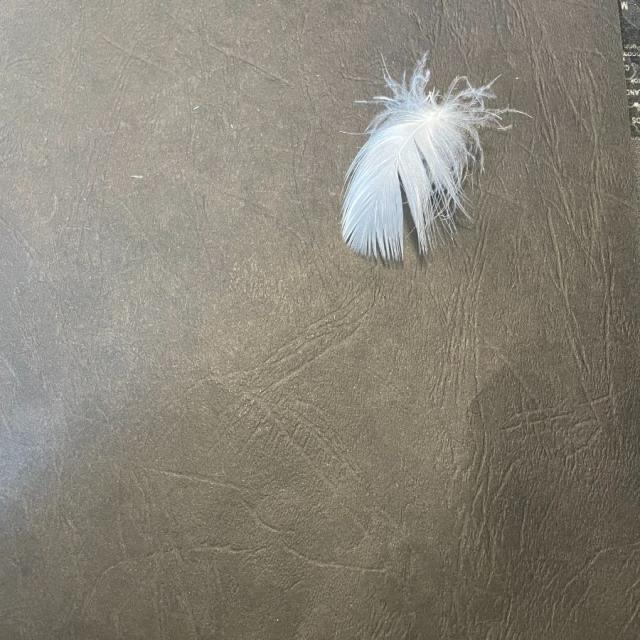feather: (336, 47, 510, 259)
